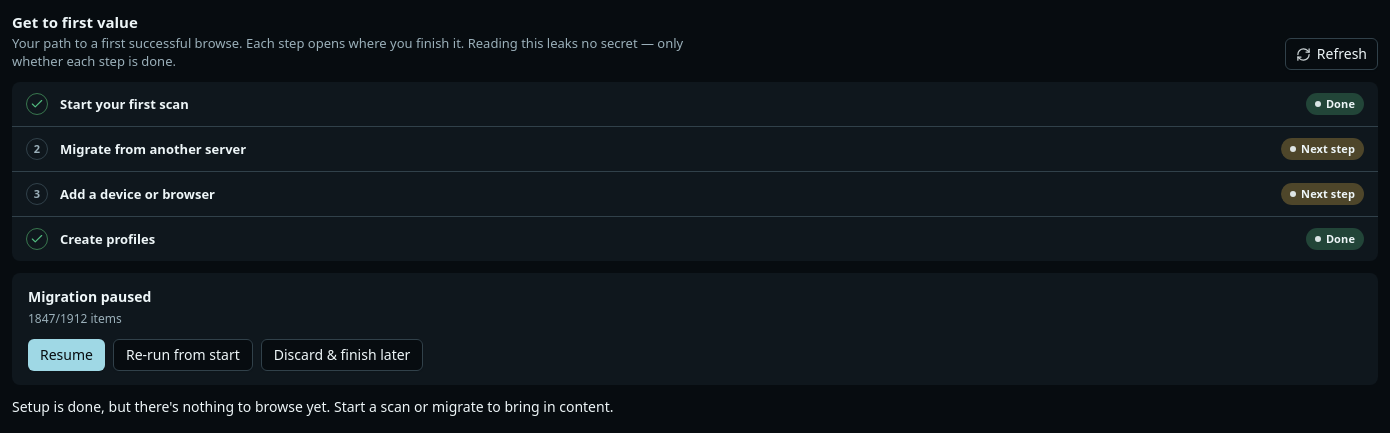
SetupChecklist (Seam B funnel spine) › offers resume, re-run, and discard for a partial migration job
The width and height of the screenshot is (1390, 433).
Expected: the text "Migration paused" is shown, [28,287,151,306]
Expected: the text "1847/1912 items" is shown, [28,310,122,327]
Click the button "Resume" at [66, 355], box [28,339,105,371]
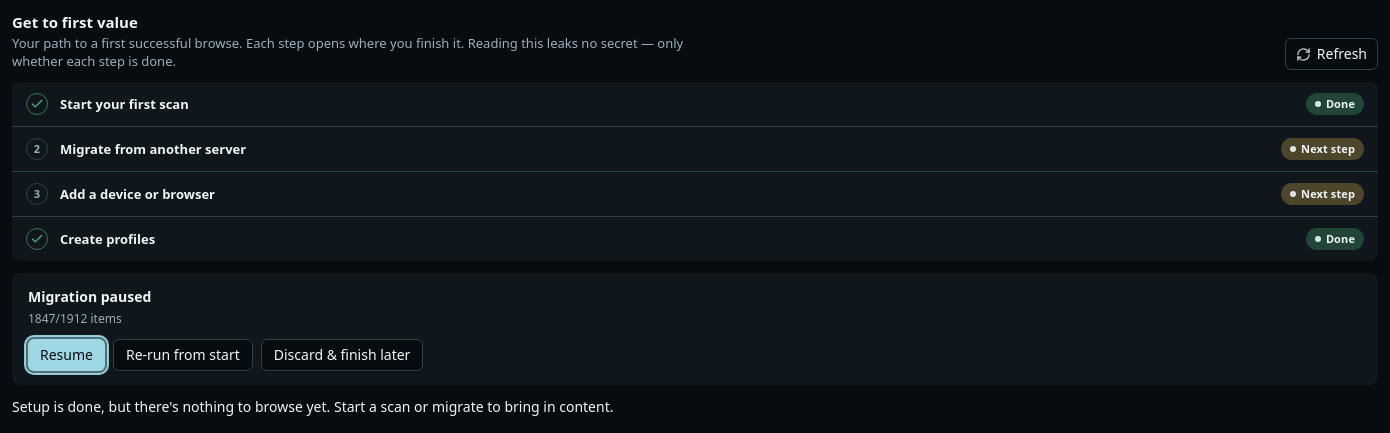
Click the button "Re-run from start" at [183, 355], box [113,339,253,371]
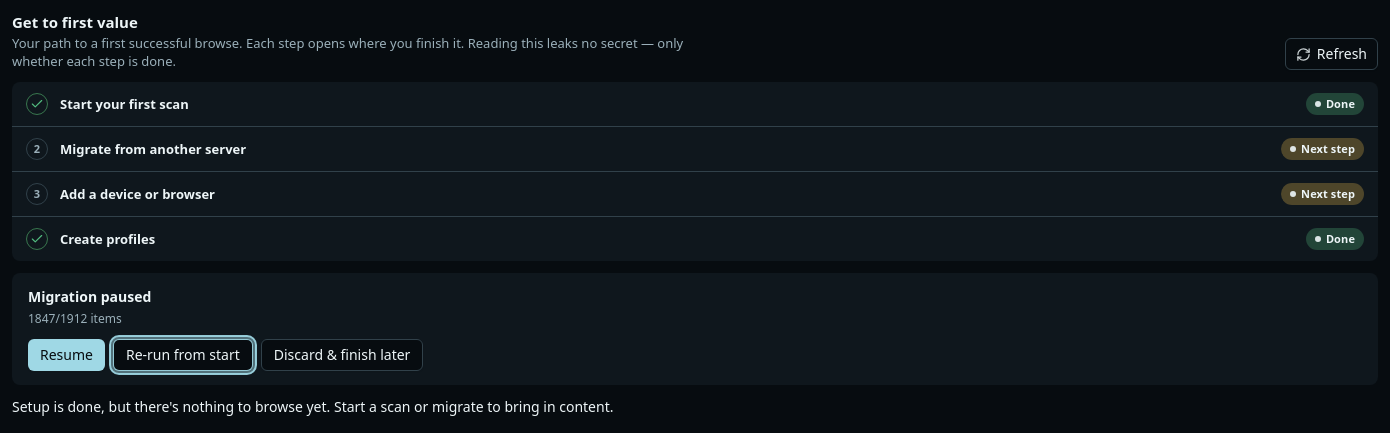
Click the button "Discard & finish later" at [342, 355], box [261,339,423,371]
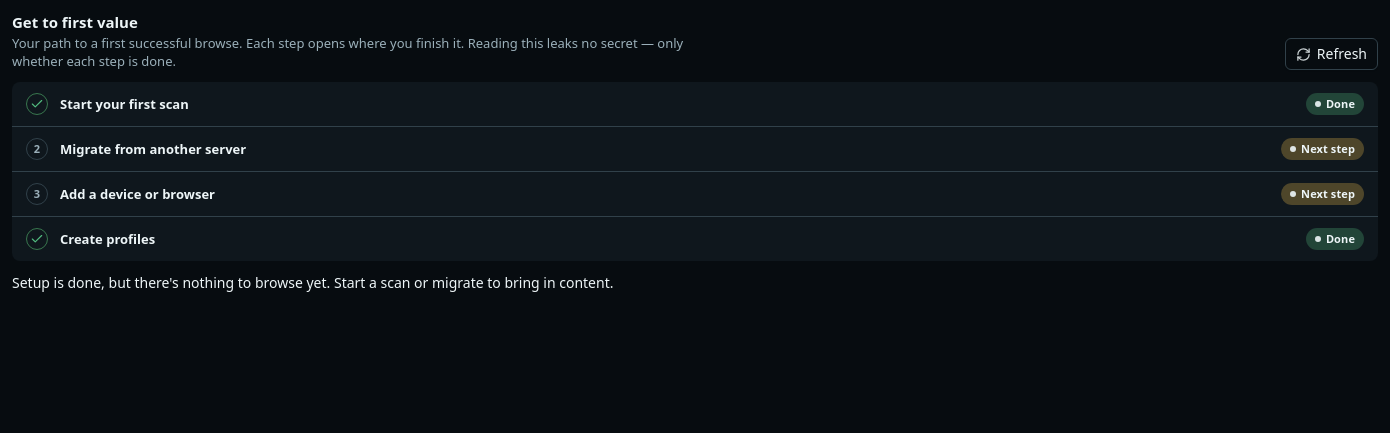
Expected: the link "2 Migrate from another server Next step" is shown, [12,127,1378,172]
Result: the text "Migration paused" is gone
